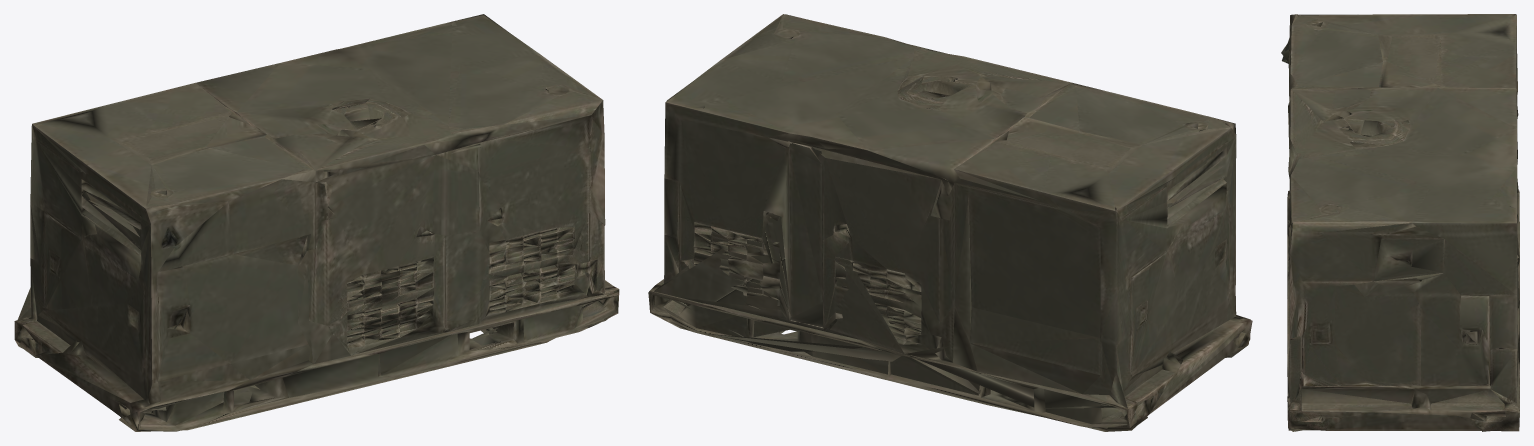
Rendered from field_gen.glb.
The picture shows the model from 3 angles, left to right: view 1: azimuth 30°, elevation 25°; view 2: azimuth 150°, elevation 25°; view 3: azimuth 270°, elevation 25°; orthographic projection. The views are drawn at different scales.
Parts seen in each view (by area): view 1: field_gen; view 2: field_gen; view 3: field_gen.
Part boxes in pixels (x1,y1,x2,y2): field_gen: (14, 14, 619, 431); field_gen: (648, 14, 1252, 431); field_gen: (1281, 14, 1519, 431).
Bounding box in the file's own units: 1.89 × 0.8577 × 0.8592.
Materials: 1 (1 with a texture image).
